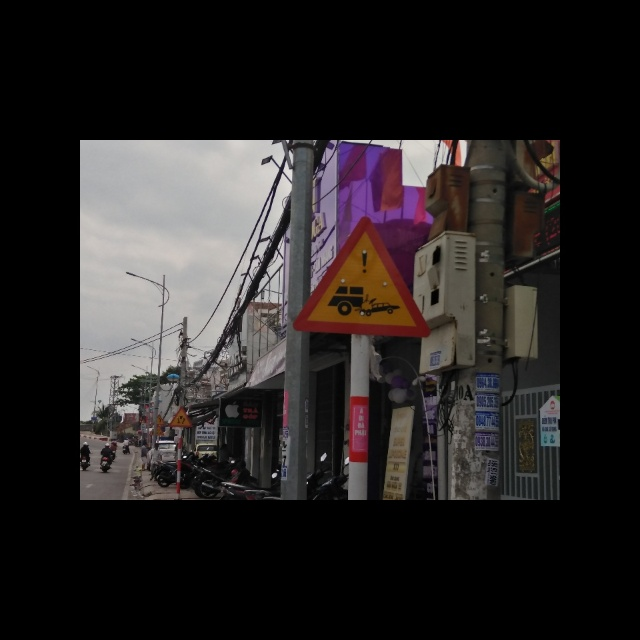Đoạn đường hay xảy ra tai nạn: (289, 216, 434, 338)
Đường đôi: (169, 407, 193, 429)
